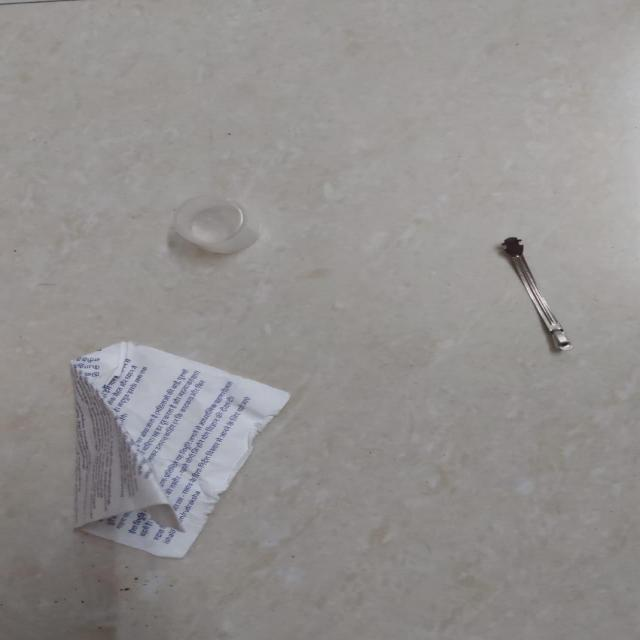metal: (482, 230, 583, 360)
paper: (53, 334, 362, 567)
plastic: (153, 194, 268, 268)
